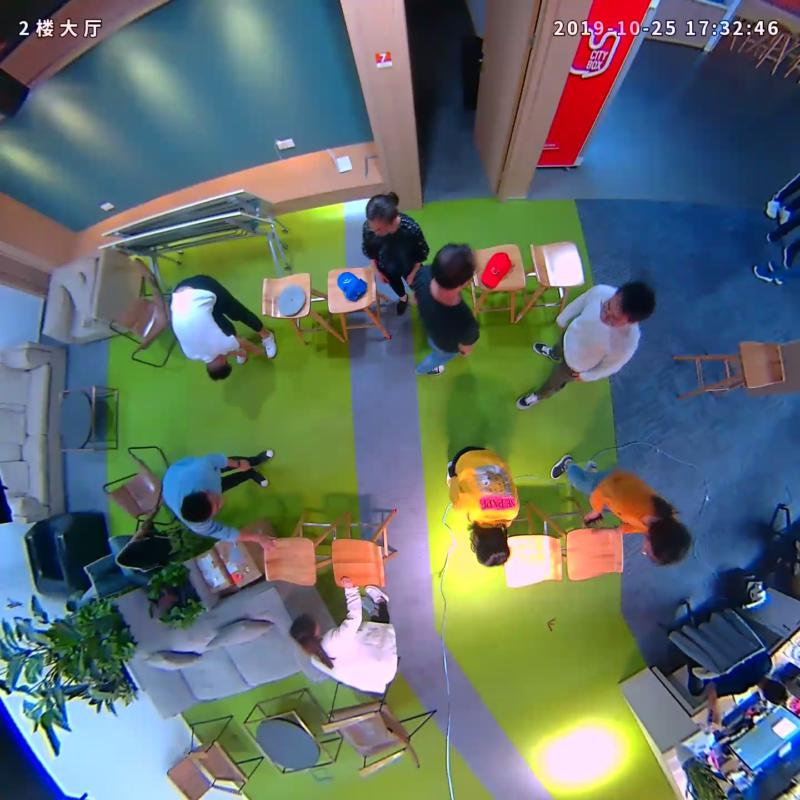head: (593, 275, 661, 334), (635, 513, 698, 572), (425, 240, 487, 299), (467, 522, 517, 570), (358, 185, 404, 234), (284, 609, 328, 656), (176, 489, 229, 527), (198, 352, 236, 384)
